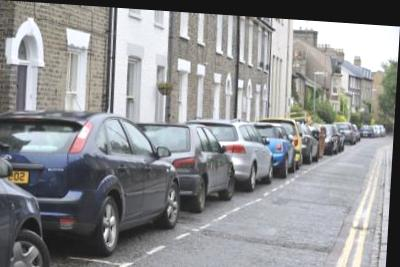License_Plate: (7, 166, 31, 183)
